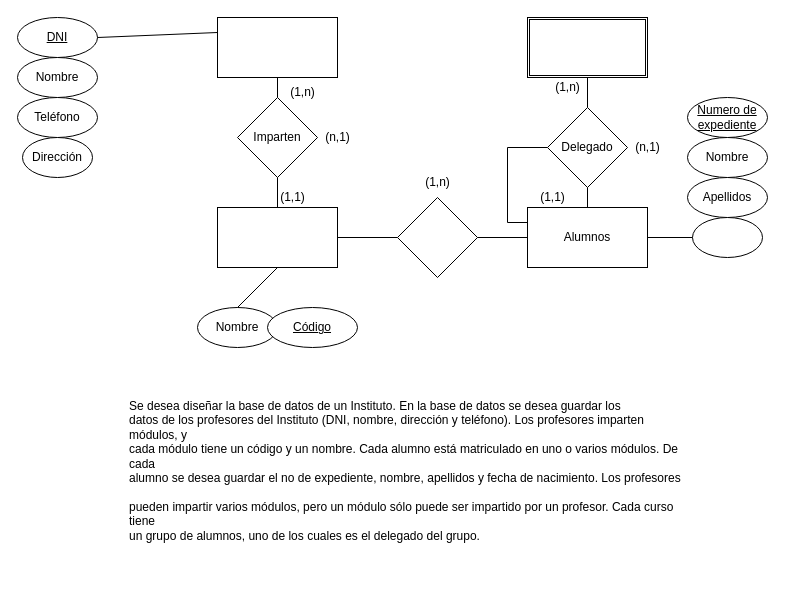
Image size: 785x590. Some labels were removed from this diagram. Here are the shapes that lost their labels. From the top down, the box of each, then its label:
(216, 16, 338, 78): Profesores de instituto
(526, 16, 648, 78): Curso
(216, 206, 338, 268): Módulos
(396, 196, 478, 278): Matriculados
(692, 216, 762, 258): Fecha de nacimiento
